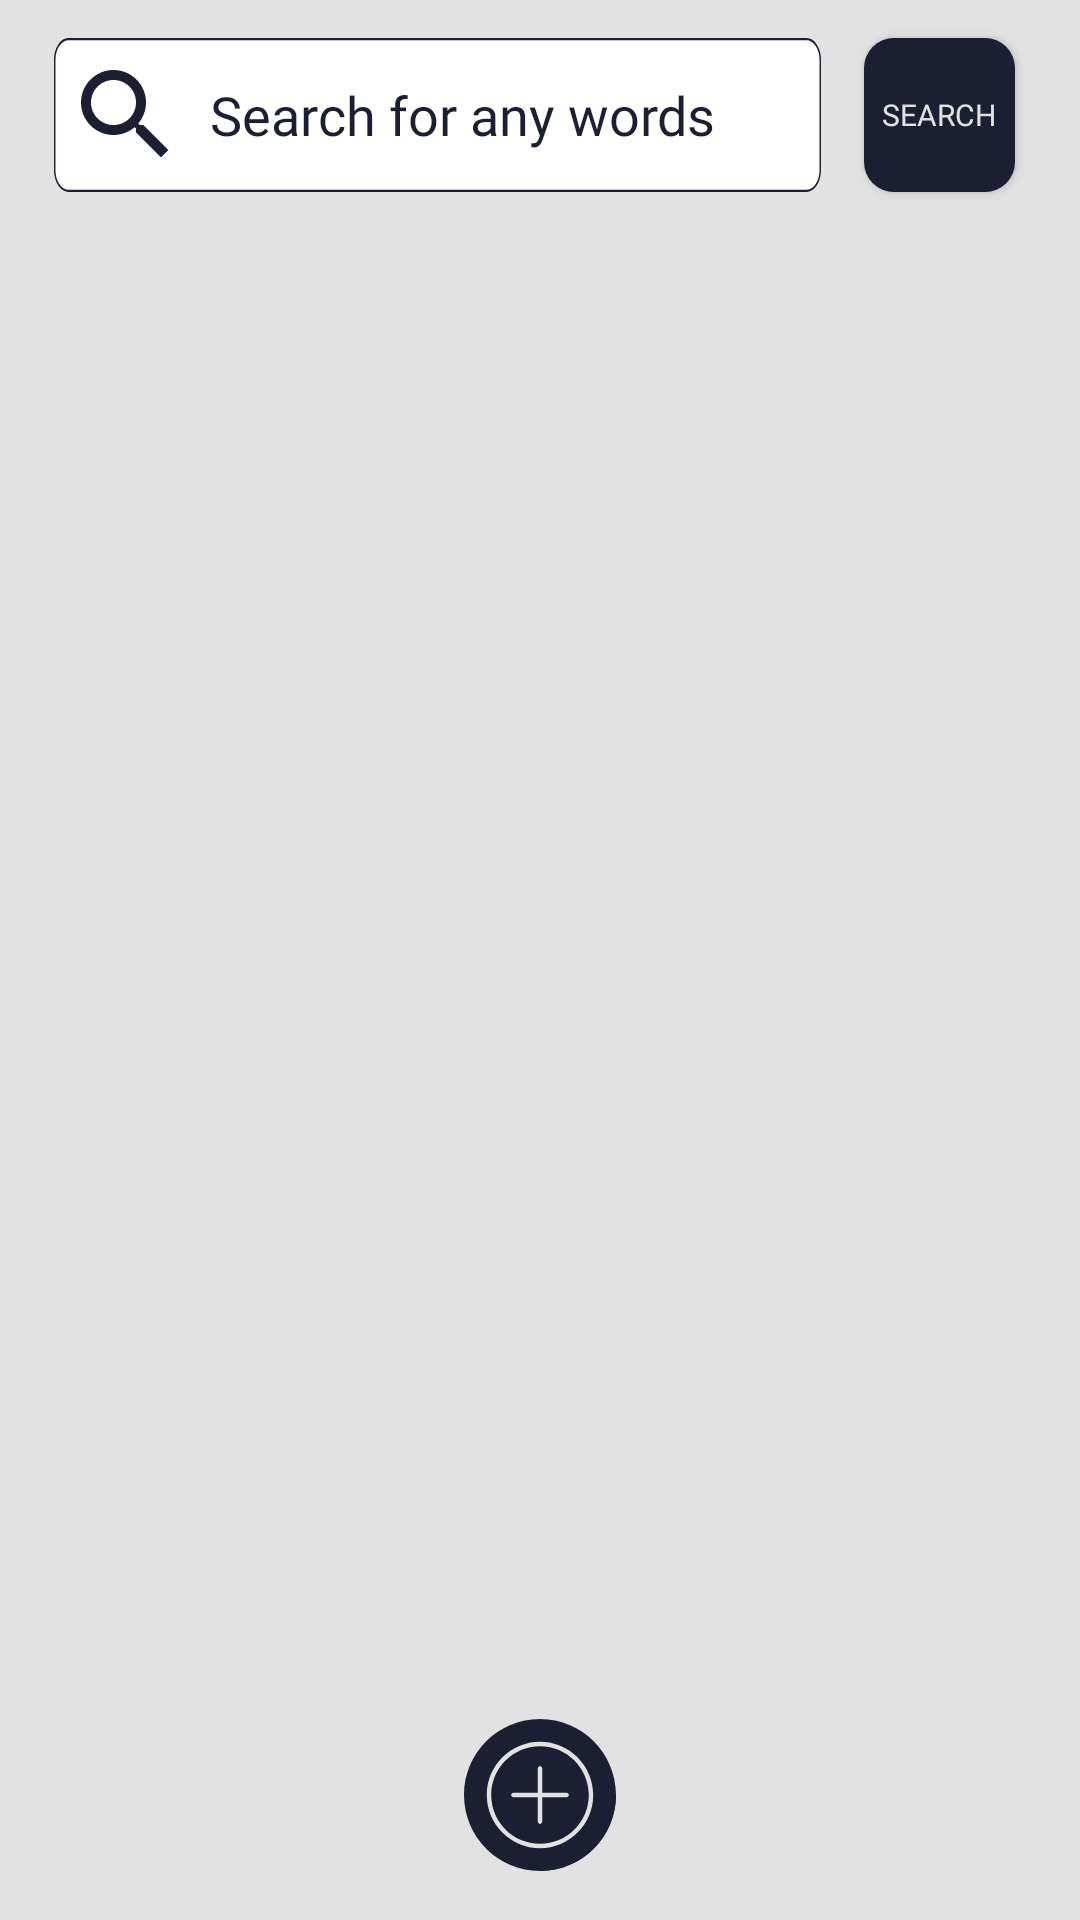

Locate icon controls on the screen. Image size 1080×1920, boxes as (x1, y1, x2, y2).
plus: (464, 1719, 616, 1871)
